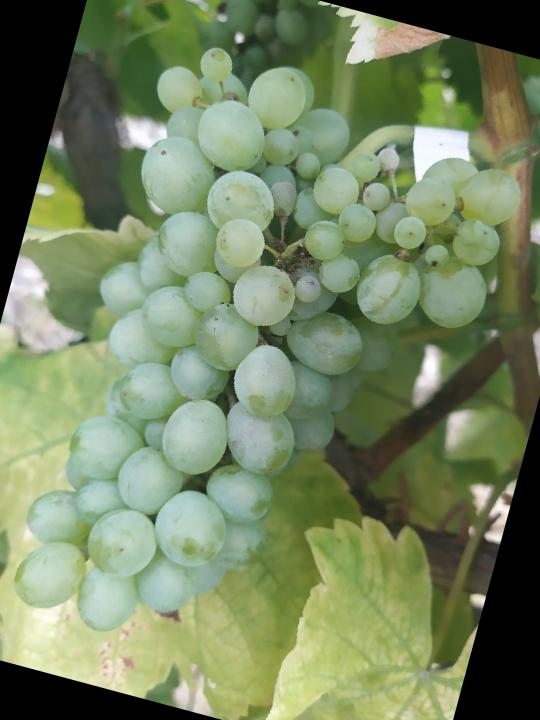grape: (0, 26, 540, 713)
